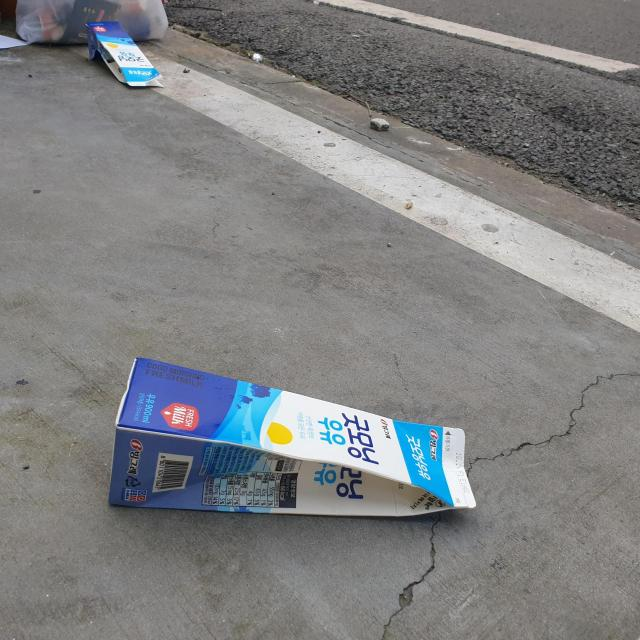paperpack: (108, 358, 476, 517), (86, 20, 163, 86)
